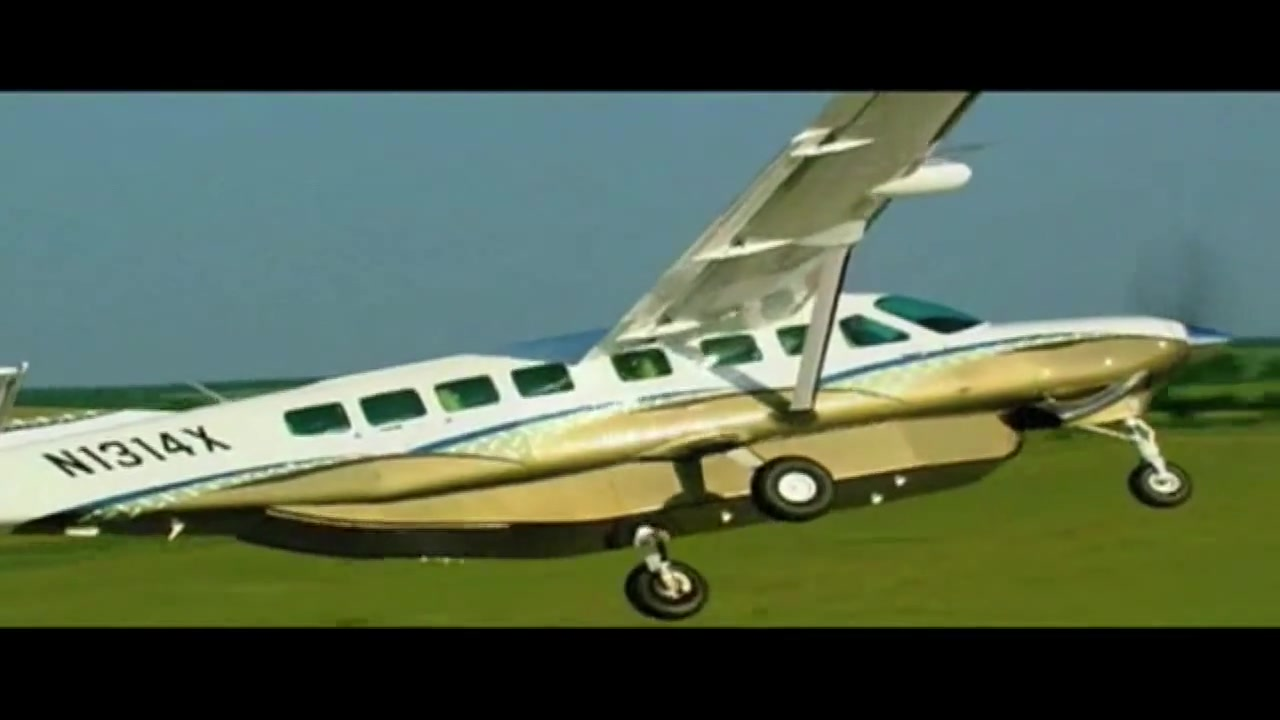aeroplane: (1, 94, 1232, 621)
